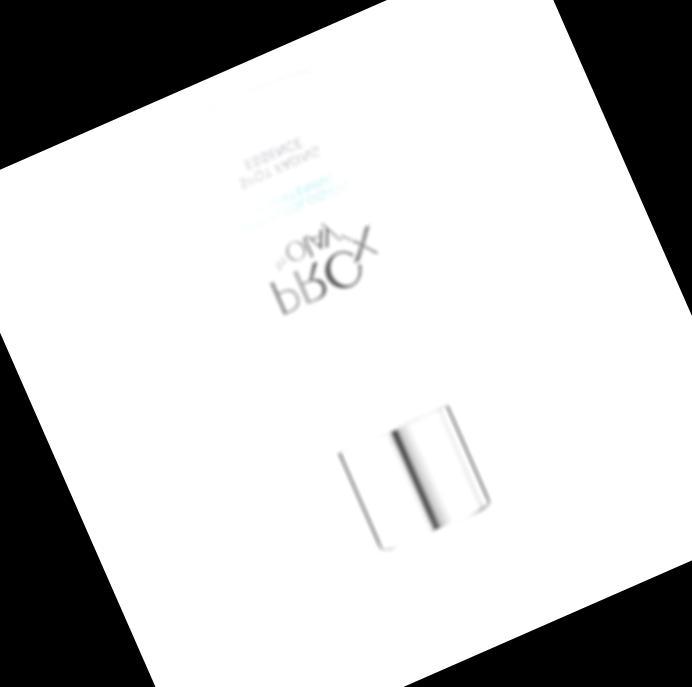cosmetic: (180, 71, 554, 648)
